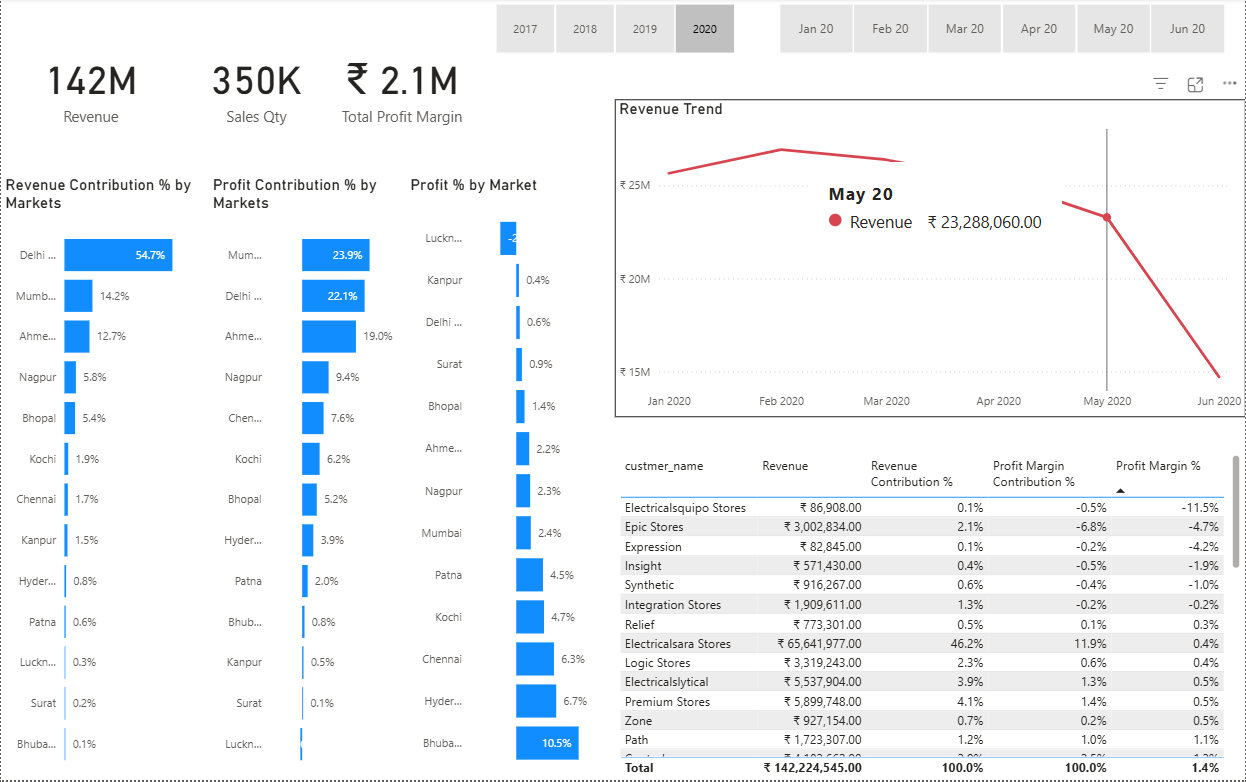

Layout of this report page (visuals, bound fields, positions):
{"tool":"powerbi","page":{"name":"Profit Analysis","canvas":[1350,850],"ordinal":1},"visuals":[{"type":"card","fields":{"Values":["BaseMeasures (2).Revenue"]},"box":[0,0,195.3,192.6],"z":0},{"type":"card","fields":{"Values":["BaseMeasures (2).Sales Qty"]},"box":[195.3,0,164.1,192.6],"z":1000},{"type":"barChart","title":"Profit % by Market","fields":{"Y":["BaseMeasures (2).Profit Margin %"],"Category":["sales markets.markets_name"]},"box":[439.4,192.6,226.5,657.7],"z":2000},{"type":"barChart","title":"Profit Contribution % by Markets","fields":{"Y":["BaseMeasures (2).Profit Margin Contribution %"],"Category":["sales markets.markets_name"]},"box":[225.1,192.6,214.3,657.7],"z":3000},{"type":"slicer","fields":{"Values":["sales date.year"]},"box":[511.3,0,307.8,66.4],"z":4000},{"type":"slicer","fields":{"Values":["sales date.cy_date"]},"box":[818.6,0,531.7,66.5],"z":5000},{"type":"tableEx","title":"Top 5 Customers","fields":{"Values":["sales customers.custmer_name","BaseMeasures (2).Revenue","BaseMeasures (2).Revenue Contribution %","BaseMeasures (2).Profit Margin Contribution %","BaseMeasures (2).Profit Margin %"]},"box":[665.8,490.9,683.5,358],"z":6000},{"type":"lineChart","title":"Revenue Trend","fields":{"Y":["BaseMeasures (2).Revenue"],"Category":["sales date.cy_date"]},"box":[665.8,109.8,684.8,345.8],"z":7000},{"type":"card","fields":{"Values":["BaseMeasures (2).Total Profit Margin"]},"box":[359.4,0,151.9,192.6],"z":8000},{"type":"barChart","title":"Revenue Contribution % by Markets","fields":{"Y":["BaseMeasures (2).Revenue Contribution %"],"Category":["sales markets.markets_name"]},"box":[0,192.6,225.1,657.7],"z":9000}]}

Visuals, with their boxes in screenshot pixels (x1, y1, x2, y2), scaled from the page's 1350x850 canvas onto the 1246x782 screenshot:
card - BaseMeasures (2).Revenue: l=0, t=0, r=180, b=177
card - BaseMeasures (2).Sales Qty: l=180, t=0, r=332, b=177
"Profit % by Market" barChart: l=406, t=177, r=615, b=781
"Profit Contribution % by Markets" barChart: l=208, t=177, r=406, b=781
slicer - sales date.year: l=472, t=0, r=756, b=61
slicer - sales date.cy_date: l=756, t=0, r=1245, b=61
"Top 5 Customers" tableEx: l=615, t=452, r=1245, b=781
"Revenue Trend" lineChart: l=615, t=101, r=1245, b=419
card - BaseMeasures (2).Total Profit Margin: l=332, t=0, r=472, b=177
"Revenue Contribution % by Markets" barChart: l=0, t=177, r=208, b=781
